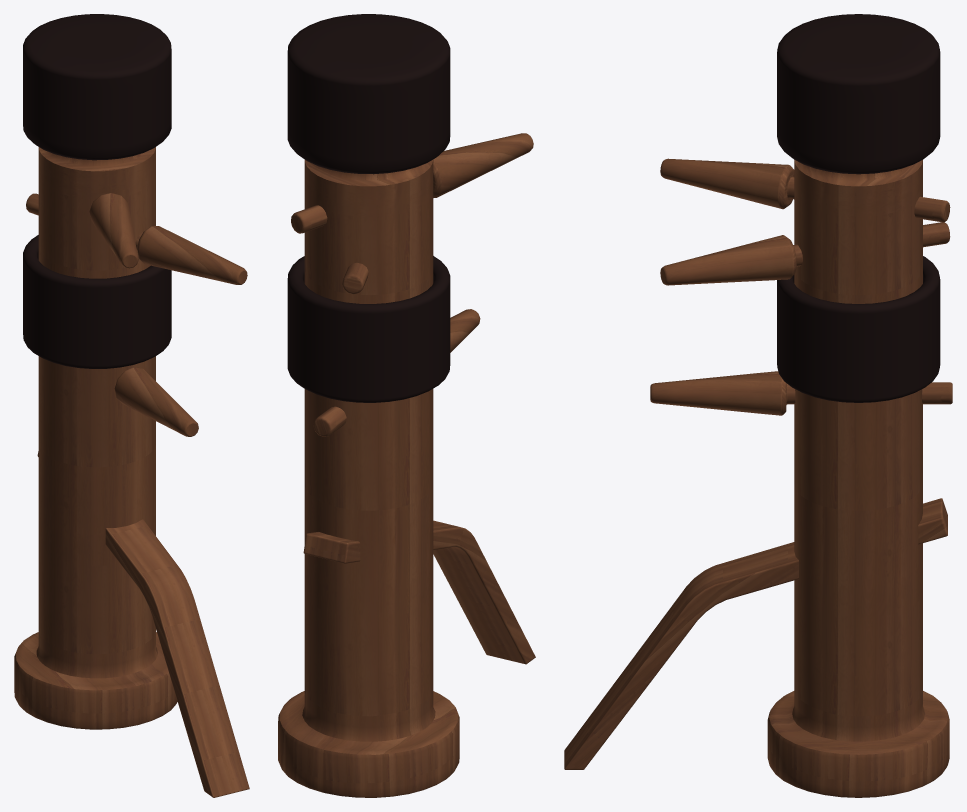
Rendered from martial.gltf.
The picture shows the model from 3 angles, left to right: view 1: azimuth 30°, elevation 25°; view 2: azimuth 150°, elevation 25°; view 3: azimuth 270°, elevation 25°; orthographic projection. The views are drawn at different scales.
Parts seen in each view (by area): view 1: Wooden Training Dummy, Black Matte 2, Black Matte, Stick 4, Stick 2, Stick 1, Stick 3; view 2: Wooden Training Dummy, Black Matte 2, Black Matte, Stick 4, Stick 3, Stick 1, Stick 2; view 3: Wooden Training Dummy, Black Matte 2, Black Matte, Stick 4, Stick 1, Stick 3, Stick 2.
Part boxes in pixels (bbox=[...]): Wooden Training Dummy: bbox=[14, 147, 177, 729]; Black Matte 2: bbox=[23, 14, 171, 160]; Black Matte: bbox=[23, 235, 171, 368]; Stick 4: bbox=[37, 451, 249, 797]; Stick 2: bbox=[26, 193, 247, 284]; Stick 1: bbox=[114, 367, 198, 436]; Stick 3: bbox=[89, 193, 138, 268]; Wooden Training Dummy: bbox=[278, 160, 459, 797]; Black Matte 2: bbox=[287, 14, 450, 174]; Black Matte: bbox=[287, 256, 450, 402]; Stick 4: bbox=[303, 520, 535, 664]; Stick 3: bbox=[291, 133, 533, 233]; Stick 1: bbox=[313, 309, 480, 436]; Stick 2: bbox=[342, 262, 368, 294]; Wooden Training Dummy: bbox=[767, 160, 949, 797]; Black Matte 2: bbox=[777, 14, 940, 174]; Black Matte: bbox=[777, 256, 940, 402]; Stick 4: bbox=[564, 498, 947, 769]; Stick 1: bbox=[650, 371, 952, 415]; Stick 3: bbox=[660, 158, 950, 222]; Stick 2: bbox=[660, 222, 950, 285].
Size of the model in its own units: 0.5048 by 2.19 by 1.08.
Materials: 2 (1 with a texture image).
